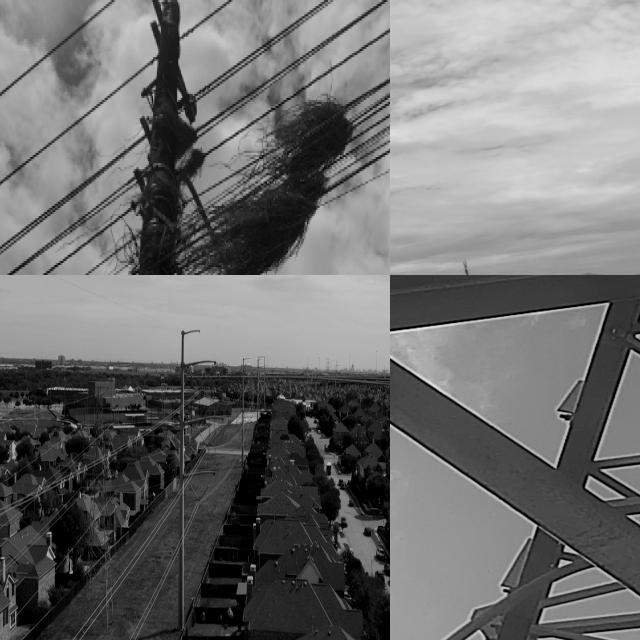杆塔: (80, 376, 118, 636)
植被遮挡: (155, 99, 357, 275)
正常绝缘子: (196, 479, 213, 506), (196, 368, 213, 394), (195, 424, 210, 451), (204, 426, 219, 452), (188, 367, 202, 394), (187, 478, 201, 504)
